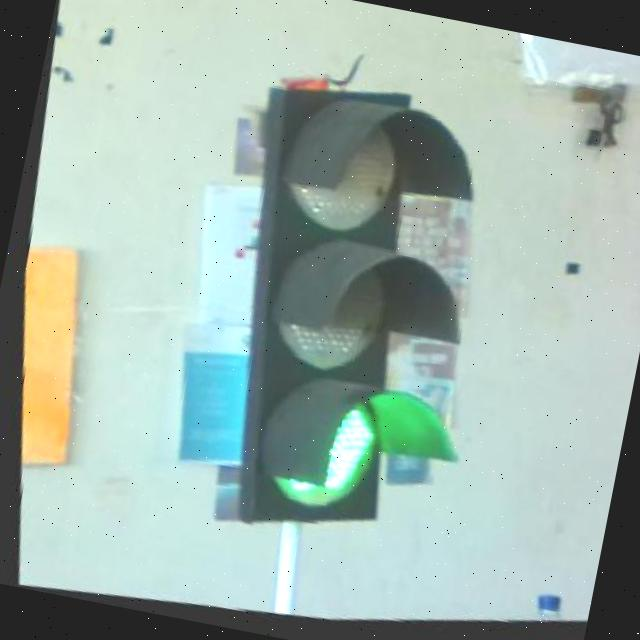green_light: (163, 58, 532, 566)
